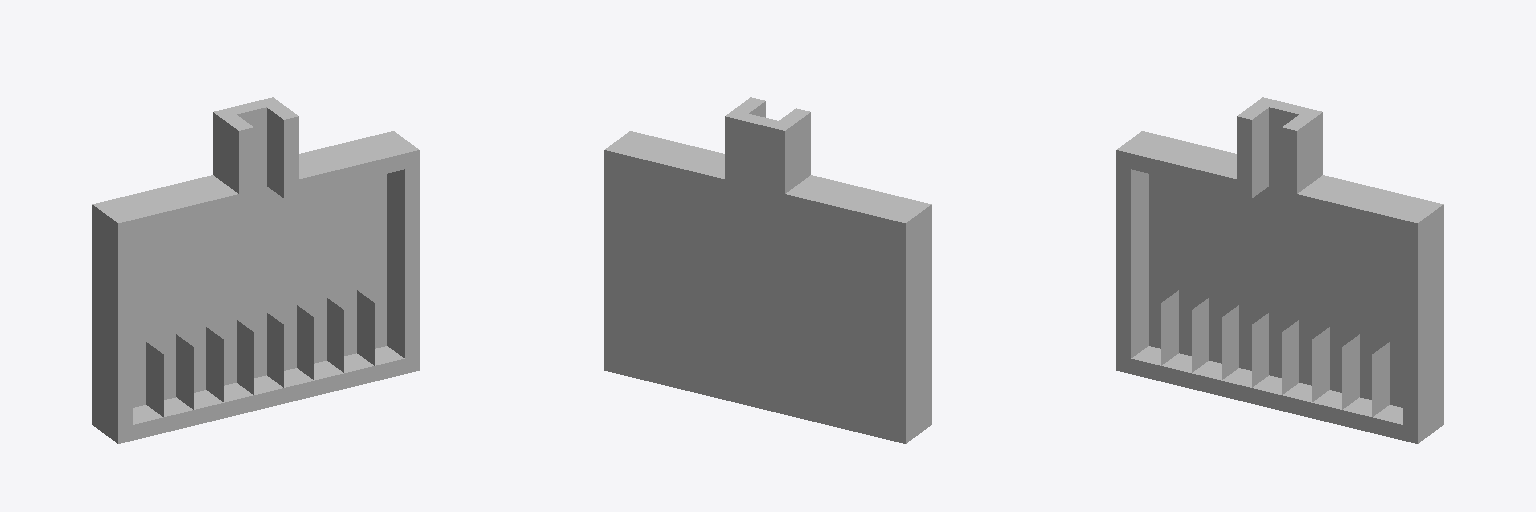
The model's file is machine.obj.
3 renders of one model, left to right at view 1: azimuth 30°, elevation 25°; view 2: azimuth 150°, elevation 25°; view 3: azimuth 330°, elevation 25°, orthographic.
Size of the model in its own units: 10 by 9 by 1.5.